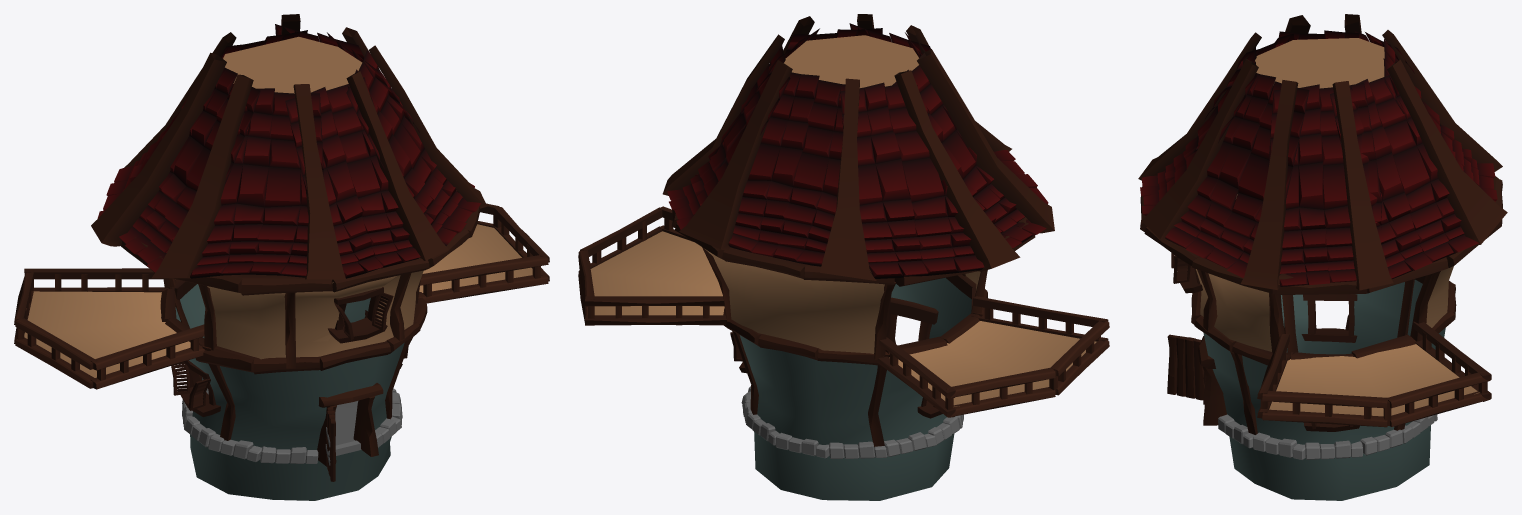
The model's file is House_Large.fbx.
3 views of the same model, side by side, from view 1: azimuth 30°, elevation 25°; view 2: azimuth 150°, elevation 25°; view 3: azimuth 270°, elevation 25° (orthographic).
Visible parts, largest first — view 1: pCube5498; view 2: pCube5498; view 3: pCube5498.
Part boxes in pixels (x1,y1,x2,y2): pCube5498: (14, 14, 549, 500); pCube5498: (578, 14, 1109, 500); pCube5498: (1138, 14, 1507, 500).
Bounding box in the file's own units: 2872 × 2357 × 1909.
